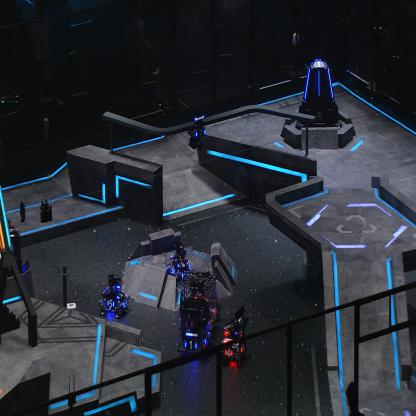car: (179, 269, 221, 332), (176, 294, 211, 354), (218, 314, 248, 364), (100, 272, 131, 319), (167, 242, 193, 286)
